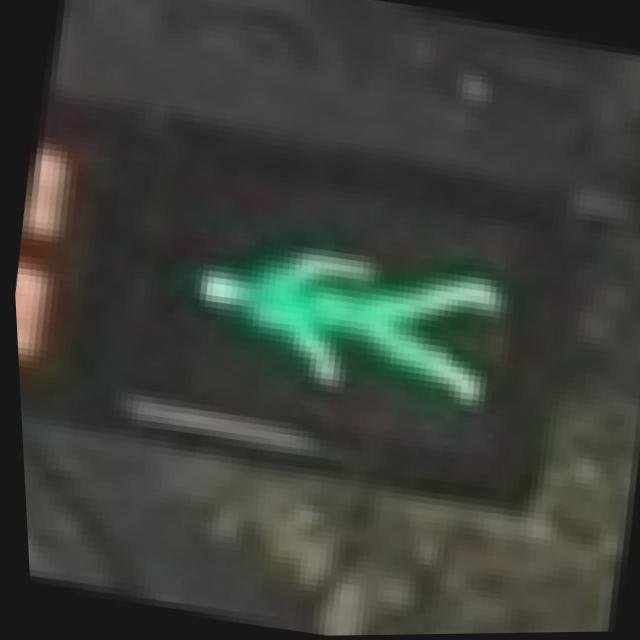green_light: (66, 93, 584, 519)
